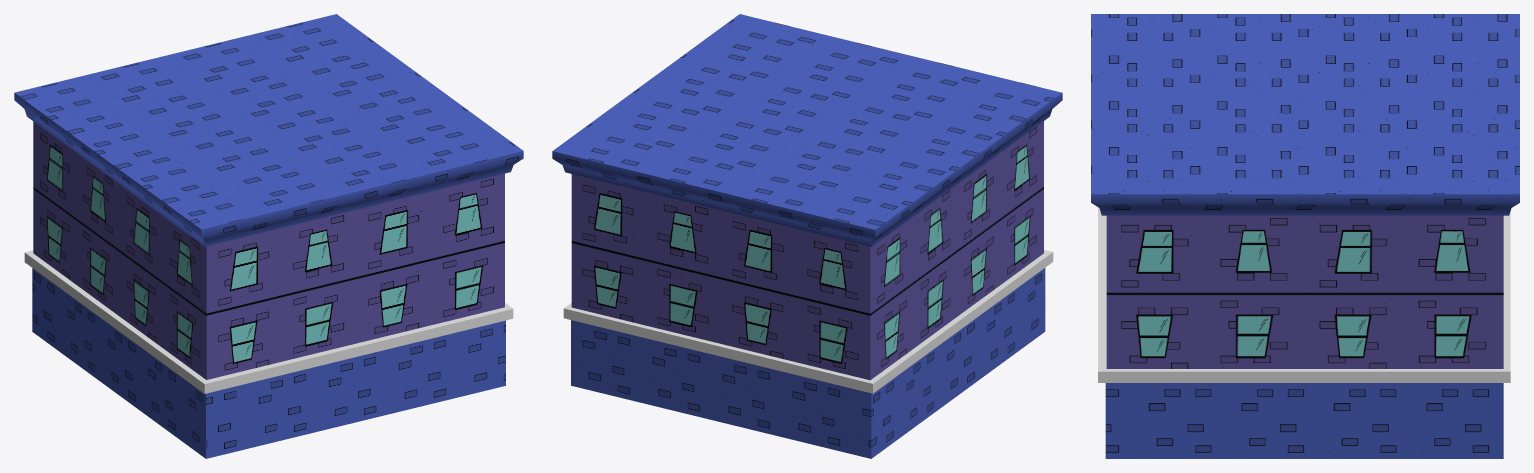
The picture shows the model from 3 angles, left to right: view 1: azimuth 30°, elevation 25°; view 2: azimuth 150°, elevation 25°; view 3: azimuth 270°, elevation 25°; orthographic projection. The views are drawn at different scales.
Parts seen in each view (by area): view 1: Box004, Box003, Box001, Box002; view 2: Box004, Box003, Box001, Box002; view 3: Box004, Box003, Box001, Box002.
Boxes of the visible parts, bbox=[...] form: Box004: bbox=[14, 14, 523, 246]; Box003: bbox=[33, 121, 504, 379]; Box001: bbox=[32, 268, 505, 458]; Box002: bbox=[24, 250, 513, 393]; Box004: bbox=[552, 14, 1062, 246]; Box003: bbox=[571, 121, 1043, 380]; Box001: bbox=[571, 268, 1045, 458]; Box002: bbox=[563, 250, 1053, 393]; Box004: bbox=[1091, 14, 1519, 215]; Box003: bbox=[1106, 215, 1503, 368]; Box001: bbox=[1105, 383, 1503, 458]; Box002: bbox=[1098, 207, 1510, 382].
Bounding box in the file's own units: 11.73 × 8.23 × 11.8.
